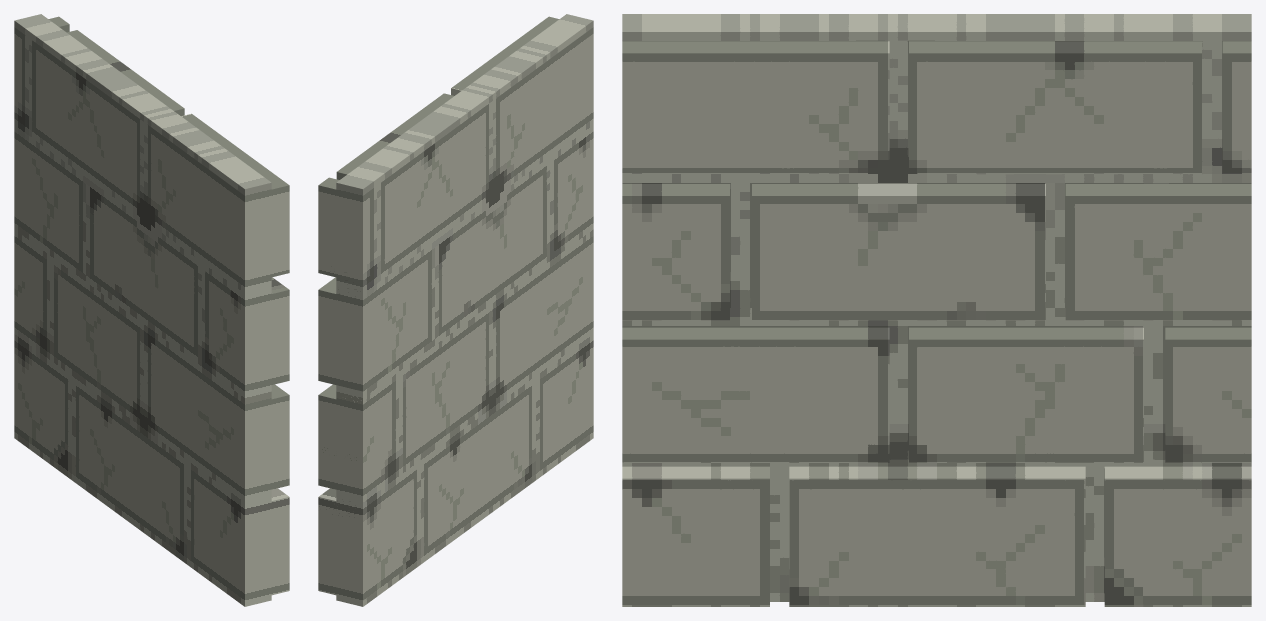
The model's file is ConcreteWall.fbx.
The picture shows the model from 3 angles, left to right: view 1: azimuth 30°, elevation 25°; view 2: azimuth 150°, elevation 25°; view 3: azimuth 270°, elevation 25°; orthographic projection. The views are drawn at different scales.
Visible parts, largest first — view 1: Plane; view 2: Plane; view 3: Plane.
Part boxes in pixels (bbox=[...]): Plane: bbox=[14, 14, 289, 606]; Plane: bbox=[318, 14, 593, 606]; Plane: bbox=[622, 14, 1251, 606].
Bounding box in the file's own units: 22.37 × 200 × 200.
